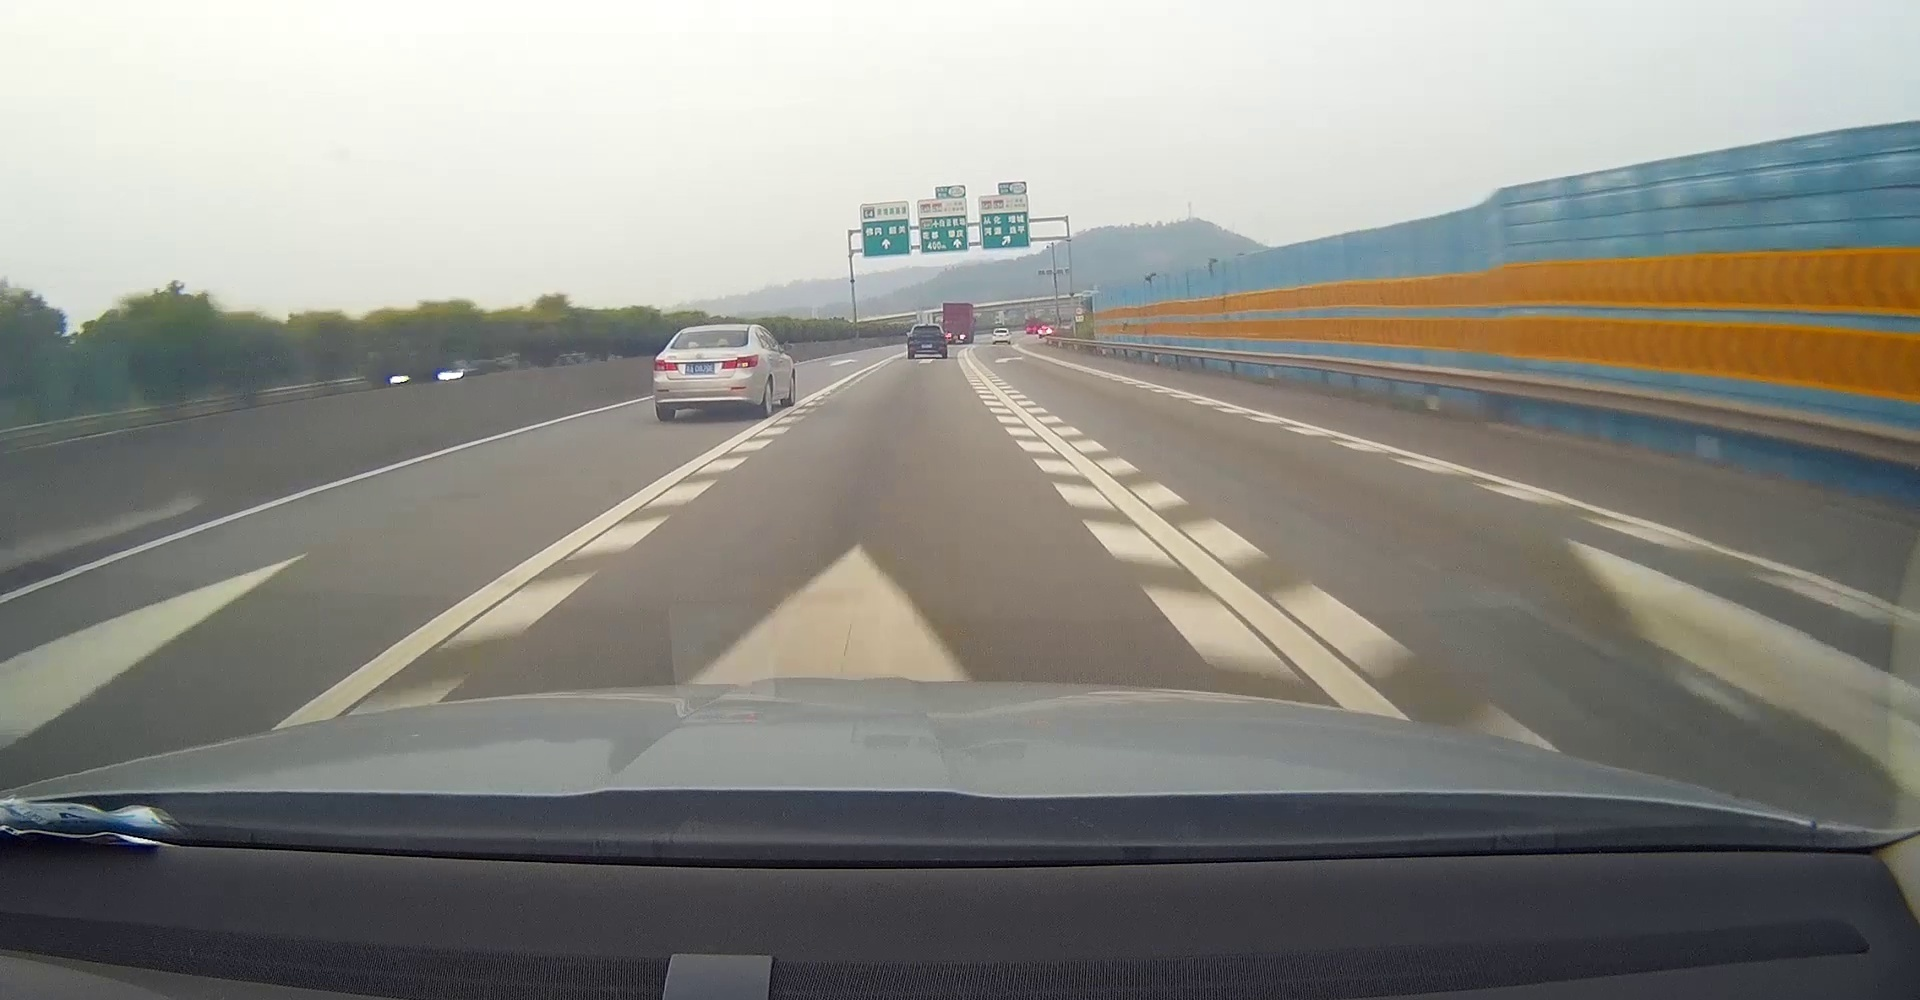L_light: (654, 359, 678, 371)
R_light: (721, 354, 757, 369)
T_light: (702, 331, 719, 332)
day-no: (653, 325, 759, 423)
